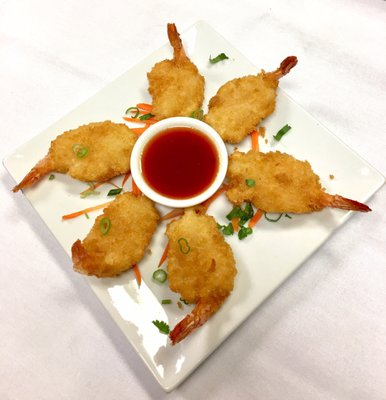sushi: (129, 116, 228, 209)
